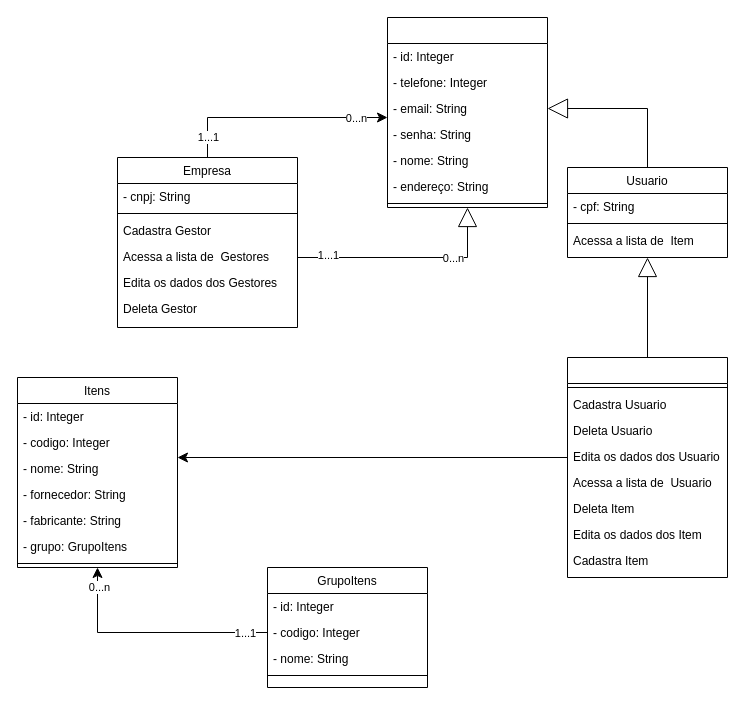
Some shapes in this 745 by 705 pixel diagram are drawn without their labels. The shapes that lost their labels are listed below. From the top down, each one's box as (x1, y1, x2, y2) in pixels, then its label:
(386, 16, 548, 208): Pessoa
(566, 356, 728, 578): Gestor
